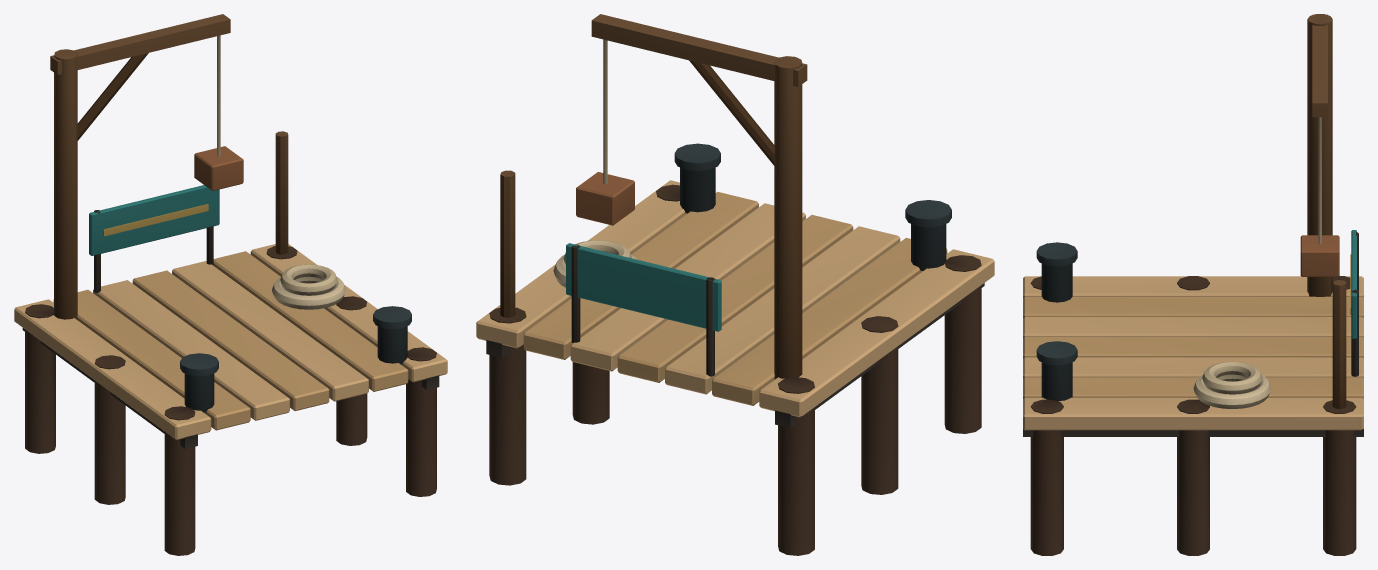
Rendered from dock.glb.
3 renders of one model, left to right at view 1: azimuth 30°, elevation 25°; view 2: azimuth 150°, elevation 25°; view 3: azimuth 270°, elevation 25°, orthographic. The views are drawn at different scales.
Parts seen in each view (by area): view 1: dock; view 2: dock; view 3: dock.
Boxes of the visible parts, x1,y1,x2,y2 form: dock: (14, 14, 447, 555); dock: (476, 14, 994, 555); dock: (1023, 14, 1363, 555).
Size of the model in its own units: 3.39 by 4.7 by 3.5.
